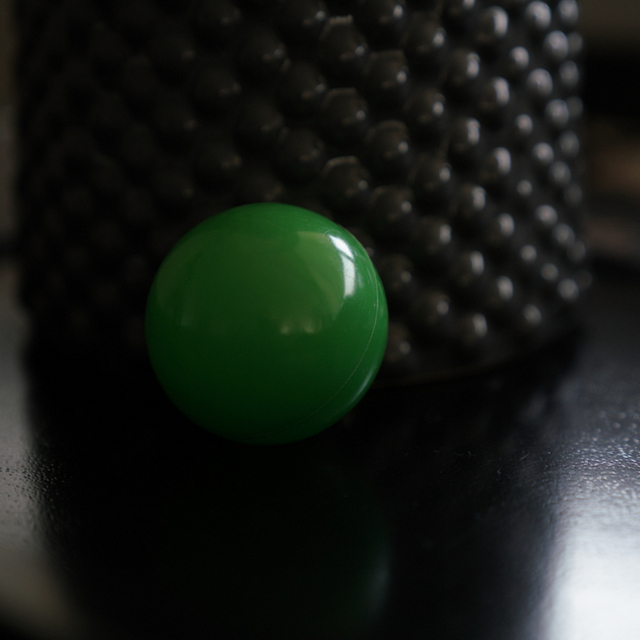Ball: (147, 205, 386, 438)
